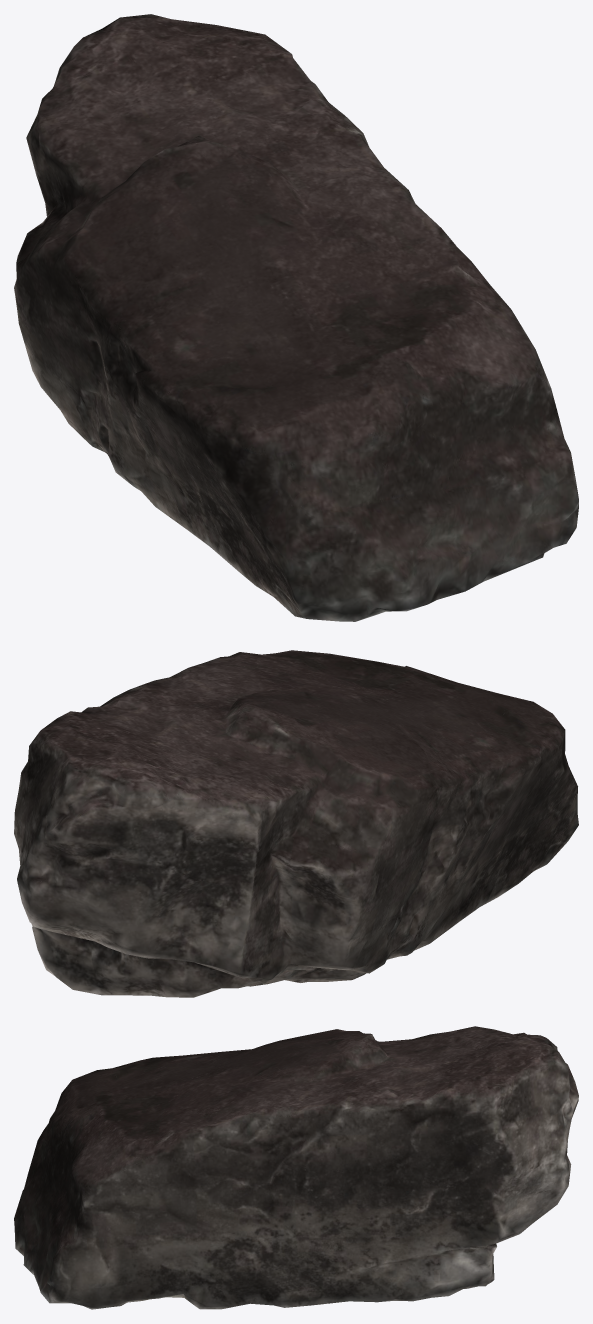
File: rock-basalt-block-ph07.glb
3 renders of one model, top to bottom at view 1: azimuth 30°, elevation 25°; view 2: azimuth 150°, elevation 25°; view 3: azimuth 270°, elevation 25°, orthographic. The views are drawn at different scales.
Visible parts, largest first — view 1: rock-basalt-block-ph07_LOD0; view 2: rock-basalt-block-ph07_LOD0; view 3: rock-basalt-block-ph07_LOD0.
Boxes of the visible parts, left/top/right/bottom form: rock-basalt-block-ph07_LOD0: left=14, top=14, right=578, bottom=621; rock-basalt-block-ph07_LOD0: left=14, top=650, right=578, bottom=997; rock-basalt-block-ph07_LOD0: left=14, top=1026, right=578, bottom=1309.
Size of what is drawn, in the model's own units: 1.26 by 1.08 by 2.4.
1 material, 1 textured.
